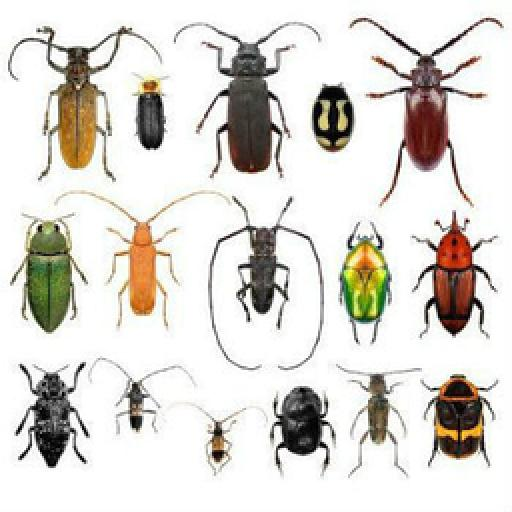insects: (348, 16, 504, 202), (54, 190, 230, 340), (174, 22, 320, 180), (208, 192, 324, 370), (8, 26, 134, 186), (408, 210, 498, 352), (92, 356, 198, 454), (334, 362, 422, 480), (10, 212, 88, 338), (14, 360, 90, 474), (422, 370, 500, 478), (336, 220, 394, 346), (266, 384, 340, 476), (192, 408, 250, 482), (310, 82, 356, 156), (134, 74, 170, 156)
